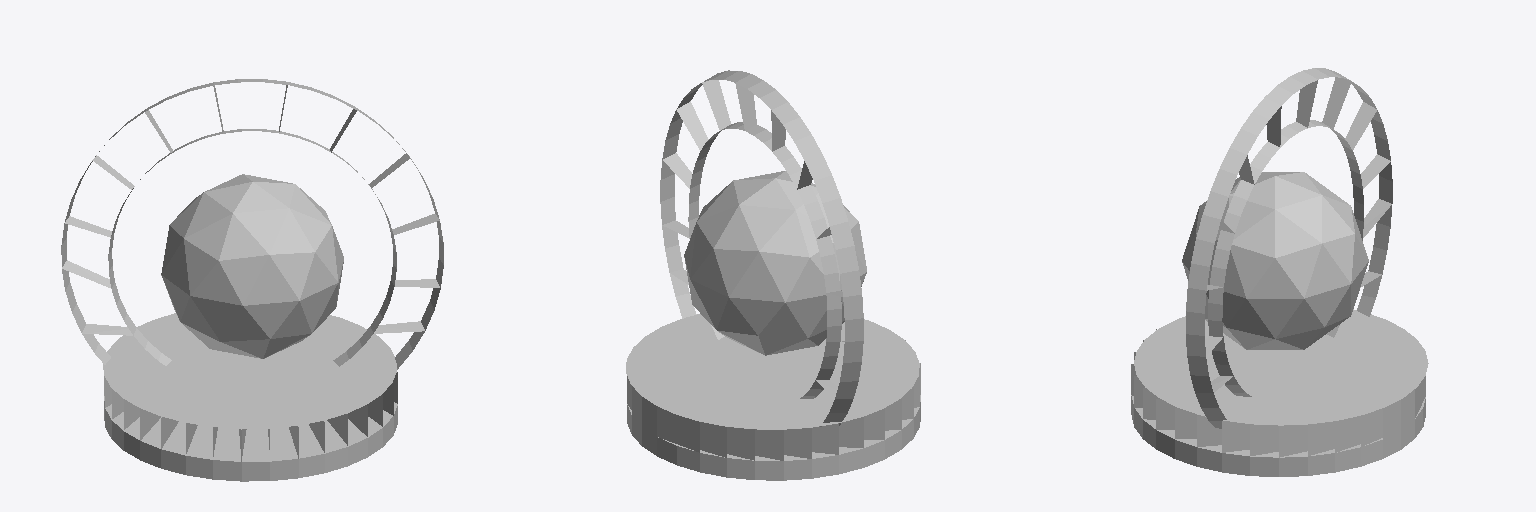
Rendered from ednsphere.obj.
3 renders of one model, left to right at view 1: azimuth 30°, elevation 25°; view 2: azimuth 150°, elevation 25°; view 3: azimuth 270°, elevation 25°, orthographic.
Parts seen in each view (by area): view 1: Circle, Icosphere; view 2: Circle, Icosphere; view 3: Circle, Icosphere.
Boxes of the visible parts, <box> form: Circle: <box>61,79,443,481</box>; Icosphere: <box>161,174,343,358</box>; Circle: <box>626,70,920,480</box>; Icosphere: <box>684,171,866,355</box>; Circle: <box>1131,68,1428,476</box>; Icosphere: <box>1182,172,1368,349</box>.
Bounding box in the file's own units: 2.28 × 2.6 × 2.02.